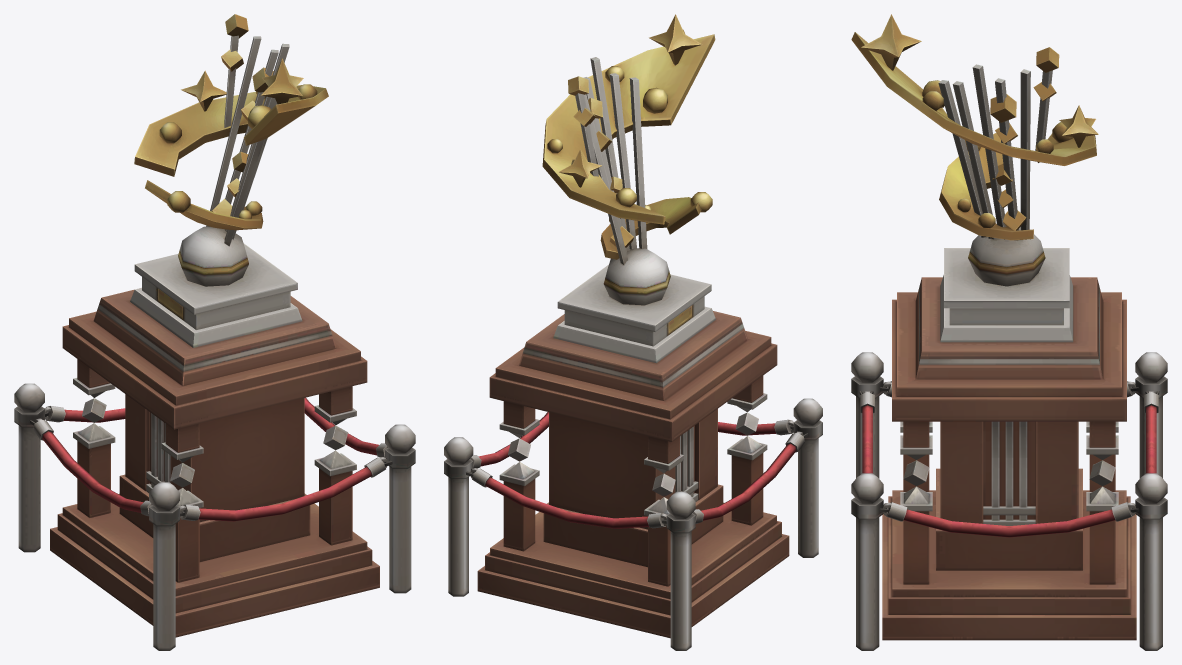
Rendered from my_wildhunt_01_displaystand_01.glb.
The picture shows the model from 3 angles, left to right: view 1: azimuth 30°, elevation 25°; view 2: azimuth 150°, elevation 25°; view 3: azimuth 270°, elevation 25°; orthographic projection. The views are drawn at different scales.
Parts seen in each view (by area): view 1: my_wildhunt_01_displaystand_01; view 2: my_wildhunt_01_displaystand_01; view 3: my_wildhunt_01_displaystand_01.
Part boxes in pixels (bbox=[...]): my_wildhunt_01_displaystand_01: bbox=[14, 14, 415, 650]; my_wildhunt_01_displaystand_01: bbox=[444, 14, 822, 650]; my_wildhunt_01_displaystand_01: bbox=[851, 14, 1167, 650].
Bounding box in the file's own units: 0.00589 × 0.012 × 0.00592.
Materials: 1 (1 with a texture image).
